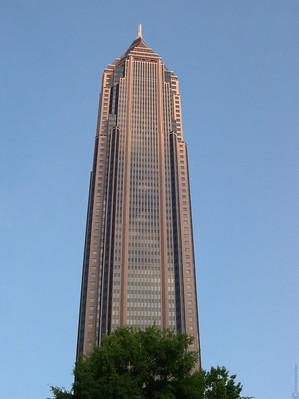building: (71, 37, 206, 398)
